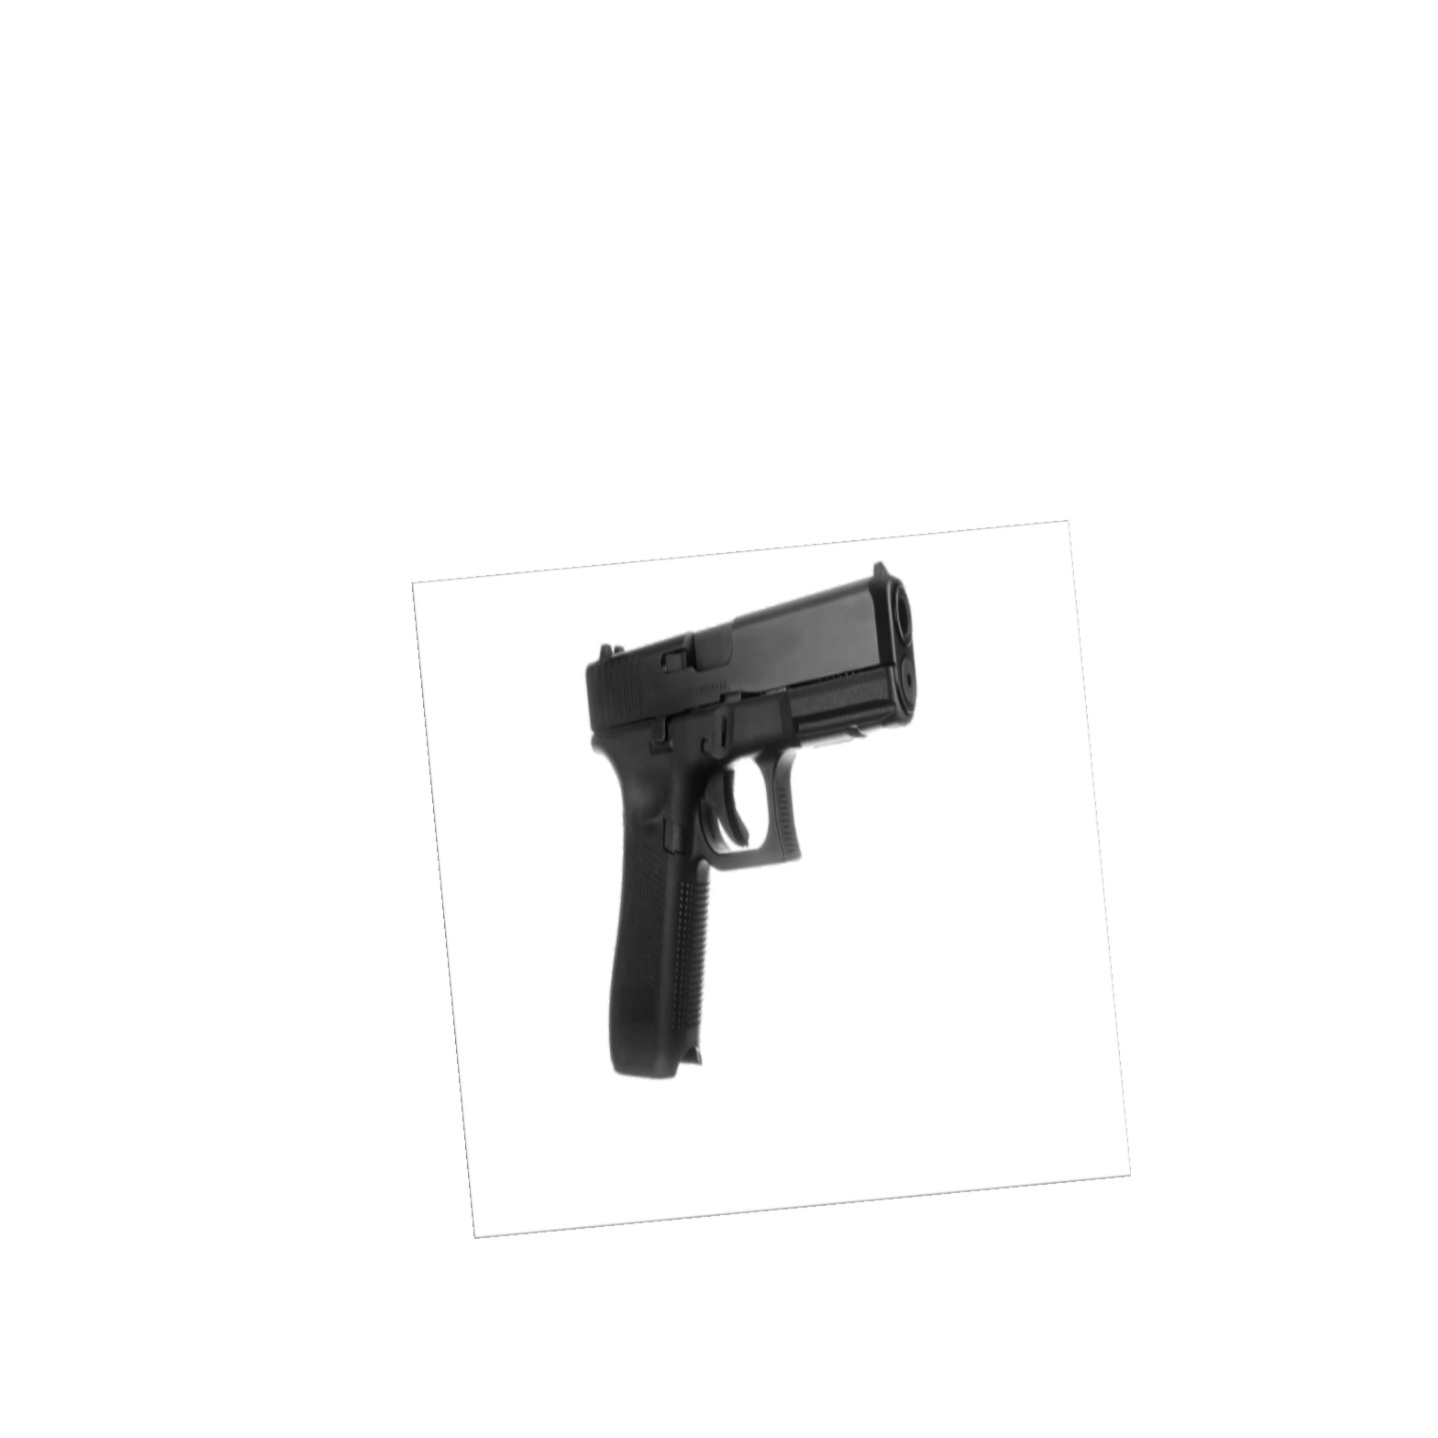gun: (568, 560, 922, 1088)
